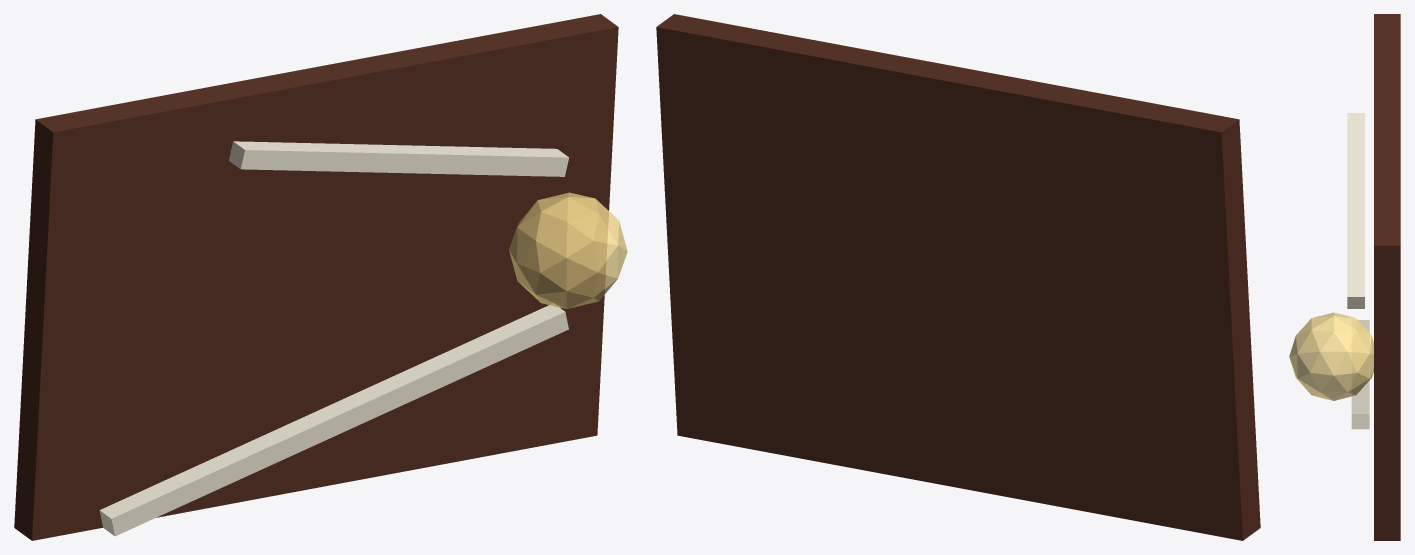
Rendered from 02_world_prop_polish.glb.
3 views of the same model, side by side, from view 1: azimuth 30°, elevation 25°; view 2: azimuth 150°, elevation 25°; view 3: azimuth 270°, elevation 25° (orthographic). The views are drawn at different scales.
Parts seen in each view (by area): view 1: object_overlay_plate, edge_wear_a, glow_socket, edge_wear_b; view 2: object_overlay_plate; view 3: object_overlay_plate, glow_socket, edge_wear_b, edge_wear_a.
Boxes of the visible parts, x1,y1,x2,y2 form: object_overlay_plate: (14,14,618,540); edge_wear_a: (99,304,568,536); glow_socket: (509,192,627,308); edge_wear_b: (229,141,569,176); object_overlay_plate: (656,14,1260,540); object_overlay_plate: (1374,14,1400,540); glow_socket: (1289,312,1373,400); edge_wear_b: (1347,113,1364,308); edge_wear_a: (1351,320,1369,429).
Size of the model in its own units: 1.14 by 0.8093 by 0.25.
